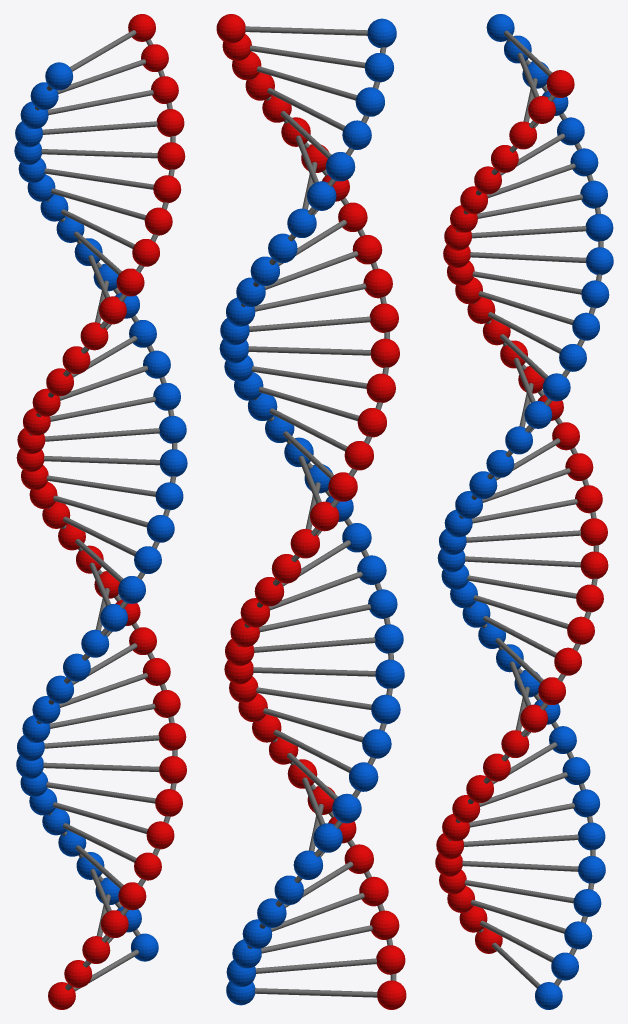
Rendered from dna.obj.
3 renders of one model, left to right at view 1: azimuth 30°, elevation 25°; view 2: azimuth 150°, elevation 25°; view 3: azimuth 270°, elevation 25°, orthographic. The views are drawn at different scales.
Visible parts, largest first — view 1: Объект_Сфера_1_24_Mesh.115; view 2: Объект_Сфера_1_24_Mesh.115; view 3: Объект_Сфера_1_24_Mesh.115.
Boxes of the visible parts, x1,y1,x2,y2 form: Объект_Сфера_1_24_Mesh.115: (14, 14, 187, 1009); Объект_Сфера_1_24_Mesh.115: (216, 14, 406, 1009); Объект_Сфера_1_24_Mesh.115: (435, 14, 613, 1009).
Bounding box in the file's own units: 6.8 × 40.7 × 7.01.
